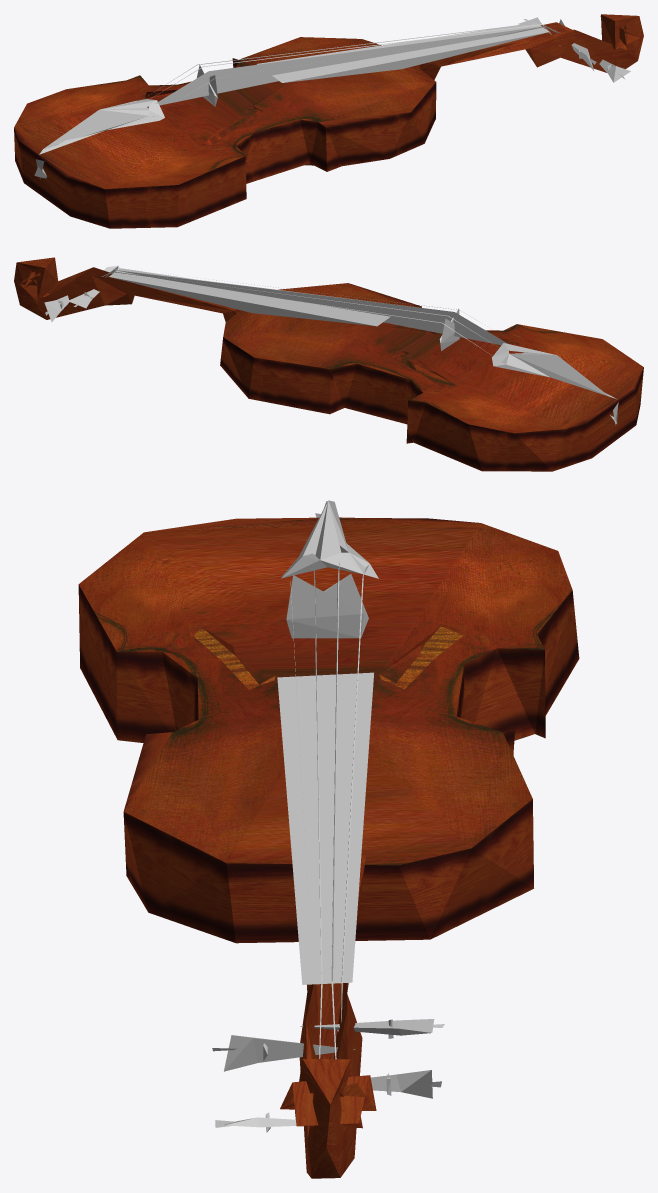
Rendered from collision_violin.obj.
3 views of the same model, one above another, from view 1: azimuth 30°, elevation 25°; view 2: azimuth 150°, elevation 25°; view 3: azimuth 270°, elevation 25° (orthographic). The views are drawn at different scales.
Visible parts, largest first — view 1: Violin_N180319.001; view 2: Violin_N180319.001; view 3: Violin_N180319.001.
Boxes of the visible parts, x1=… form: Violin_N180319.001: x1=14, y1=14, x2=643, y2=228; Violin_N180319.001: x1=14, y1=257, x2=643, y2=471; Violin_N180319.001: x1=78, y1=500, x2=579, y2=1178.
Bounding box in the file's own units: 437 × 70.41 × 156.
